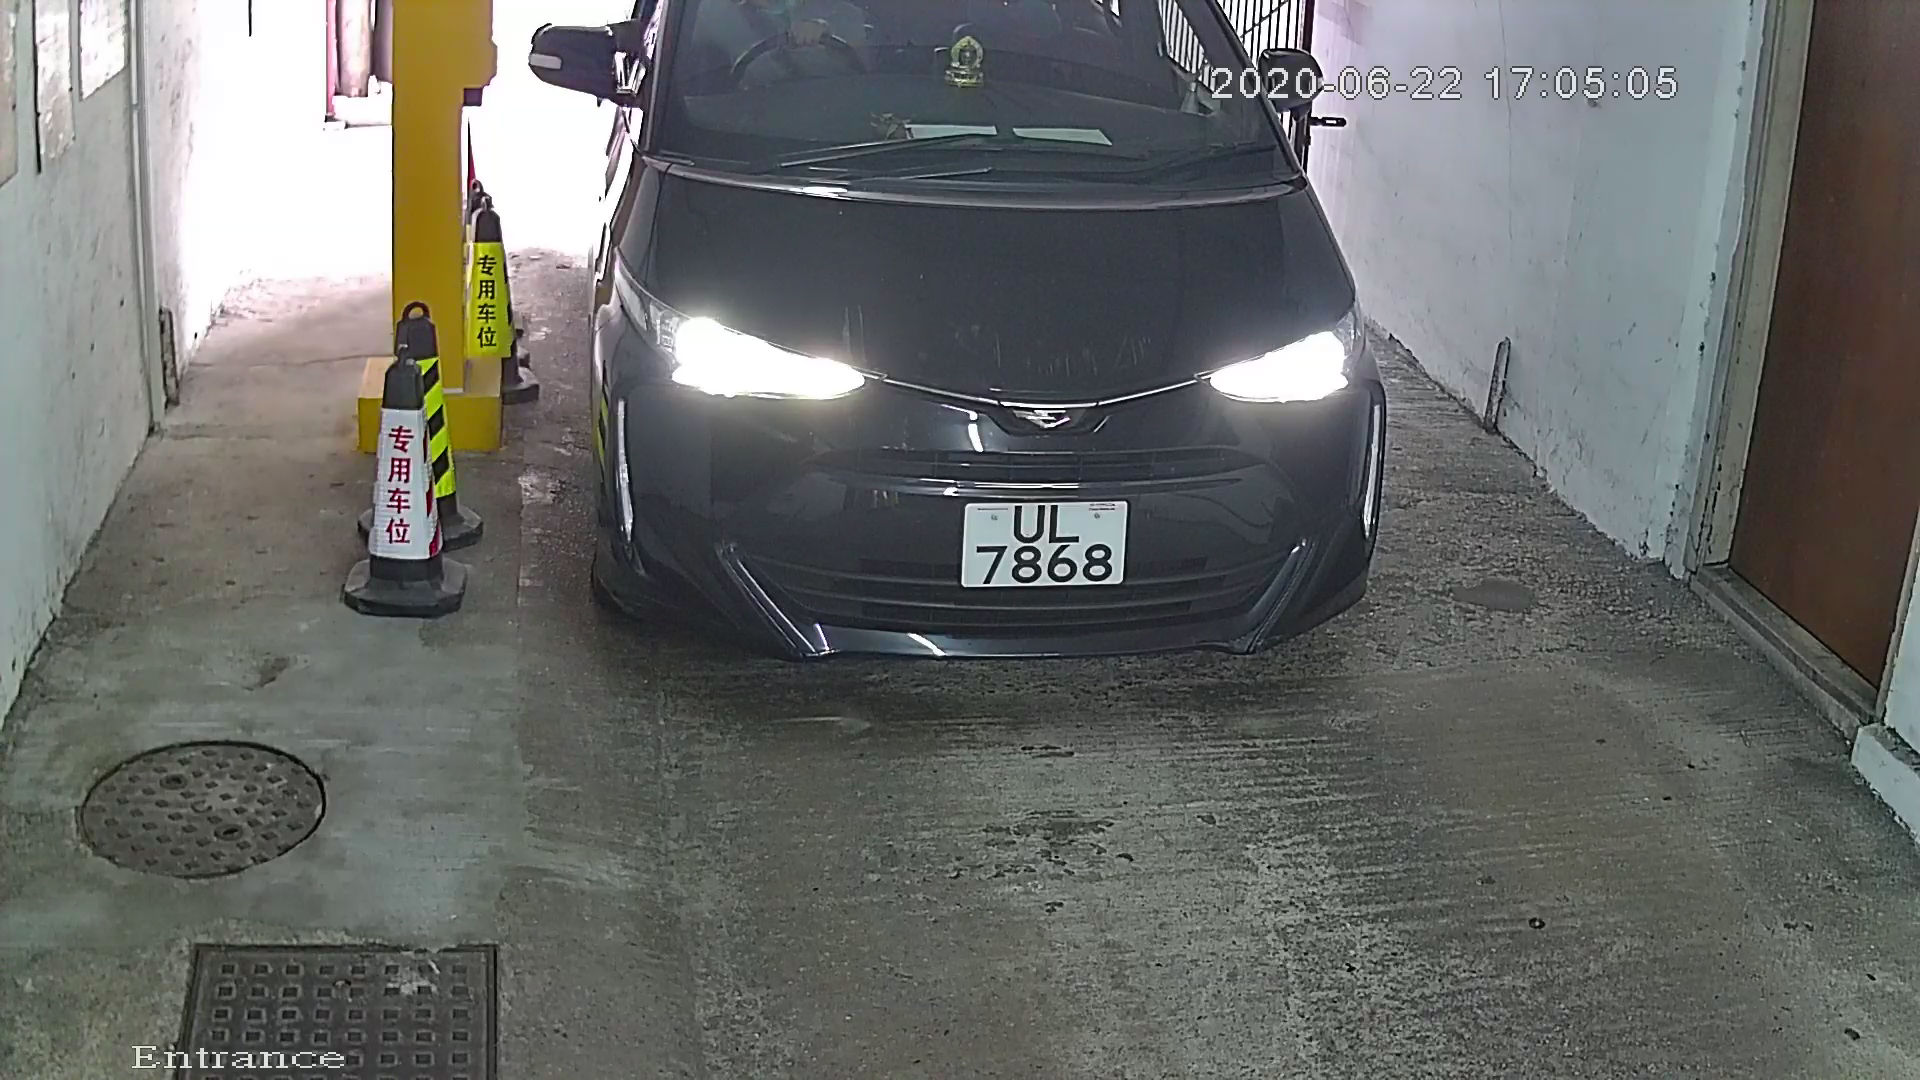privatecar: (524, 3, 1423, 700)
